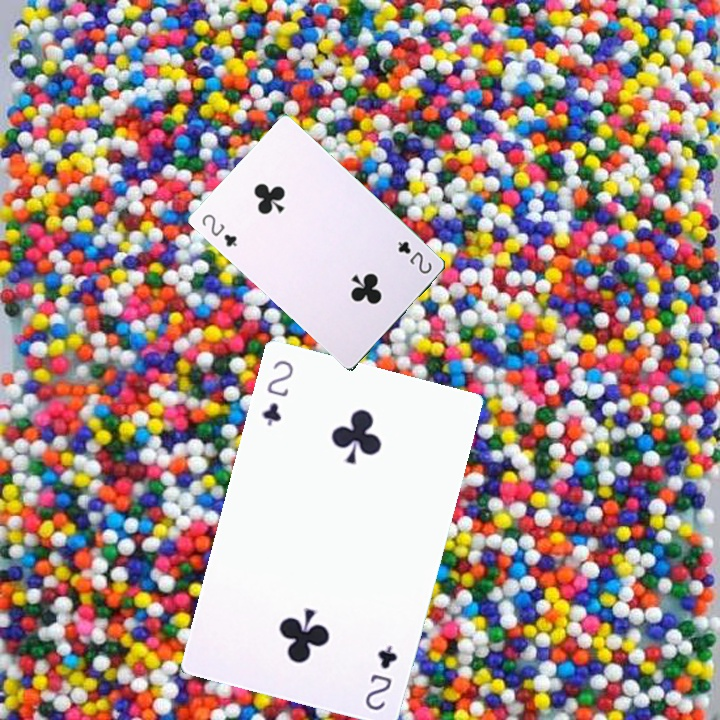2c: (257, 356, 296, 429), (361, 641, 400, 713), (394, 237, 435, 277), (198, 210, 240, 249)
